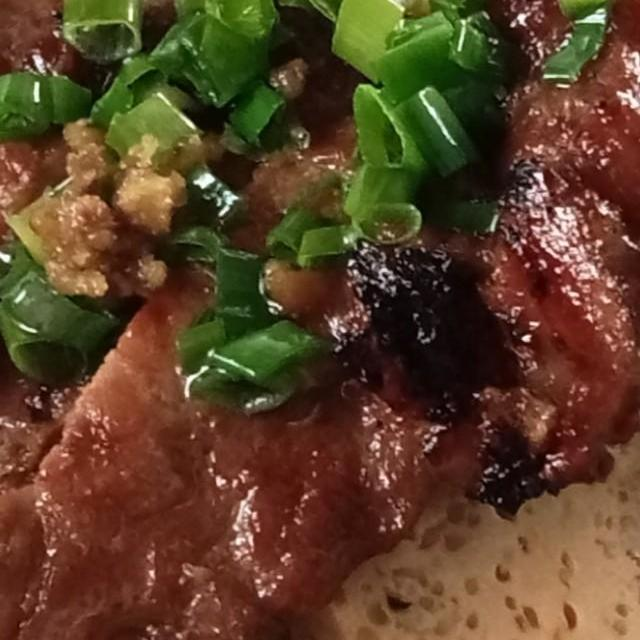cha: (281, 124, 640, 640)
com suon cha: (0, 0, 640, 640)
suon: (0, 0, 640, 640)
